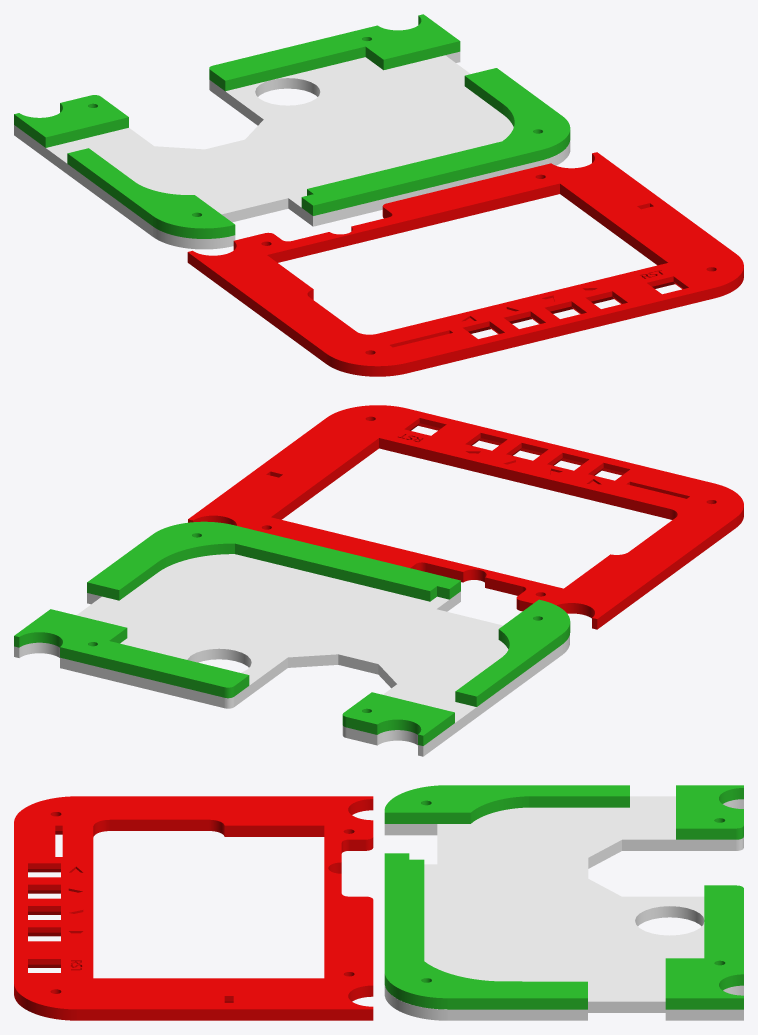
The model's file is BADGEr_case_compact_V3.dae.
3 renders of one model, top to bottom at view 1: azimuth 30°, elevation 25°; view 2: azimuth 150°, elevation 25°; view 3: azimuth 270°, elevation 25°, orthographic. The views are drawn at different scales.
Visible parts, largest first — view 1: SketchUp (×2), Component_5 (×2), Component_2, Component_4, group_0, Component_1, group_1; view 2: Component_5 (×2), SketchUp (×2), Component_2, group_0, Component_4, Component_1, group_1; view 3: Component_5 (×2), SketchUp (×2), Component_2, Component_4, group_0, Component_1, group_1.
Boxes of the visible parts, x1,y1,x2,y2 form: SketchUp (×2): (187, 152, 743, 376); Component_5 (×2): (14, 51, 570, 249); Component_2: (301, 68, 570, 215); Component_4: (67, 148, 235, 238); group_0: (209, 14, 459, 80); Component_1: (14, 95, 128, 147); group_1: (209, 16, 460, 91); Component_5 (×2): (14, 554, 569, 756); SketchUp (×2): (188, 405, 743, 629); Component_2: (87, 521, 460, 601); group_0: (14, 609, 248, 687); Component_4: (455, 599, 570, 706); Component_1: (342, 692, 454, 745); group_1: (14, 628, 249, 698); Component_5 (×2): (384, 796, 743, 1020); SketchUp (×2): (14, 796, 373, 1020); Component_2: (384, 853, 587, 1009); Component_4: (384, 785, 629, 823); group_0: (665, 885, 743, 998); Component_1: (676, 785, 743, 839); group_1: (665, 974, 743, 1009).
Size of the model in its own units: 4 by 5.79 by 0.1969.
